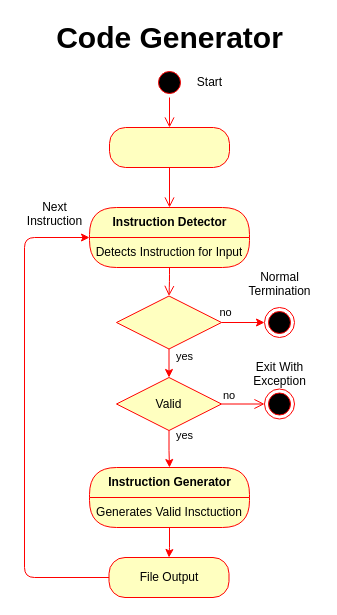
The diagram is 337 pixels wide and 615 high, and some of its shapes have lost their labels. The shapes that lost their labels are listed below. From the top down, each one's centre as x and y in pixels, then its label:
At (x=169, y=147): "File Input".
At (x=169, y=322): "Instruction Available".
